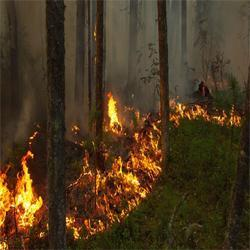fire: (2, 176, 38, 226), (107, 98, 117, 127)
